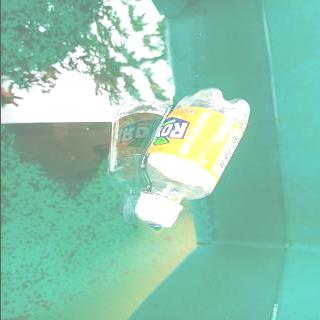bottle: (132, 86, 253, 230)
